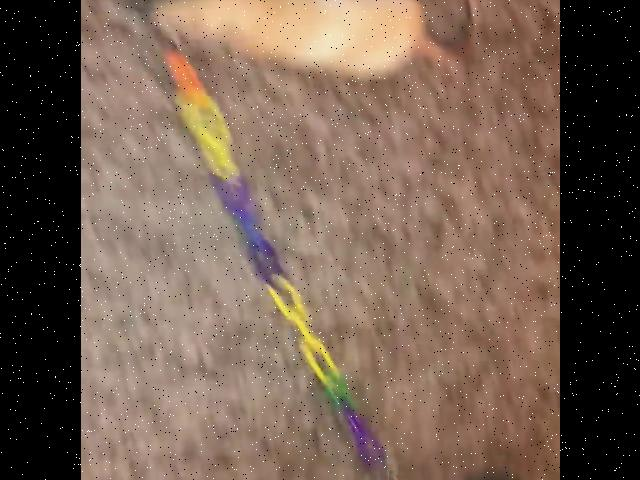Tikus: (153, 0, 478, 81)
